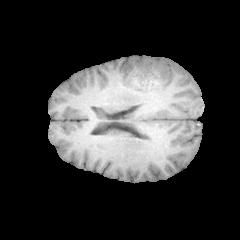glioma: (121, 57, 168, 98)
